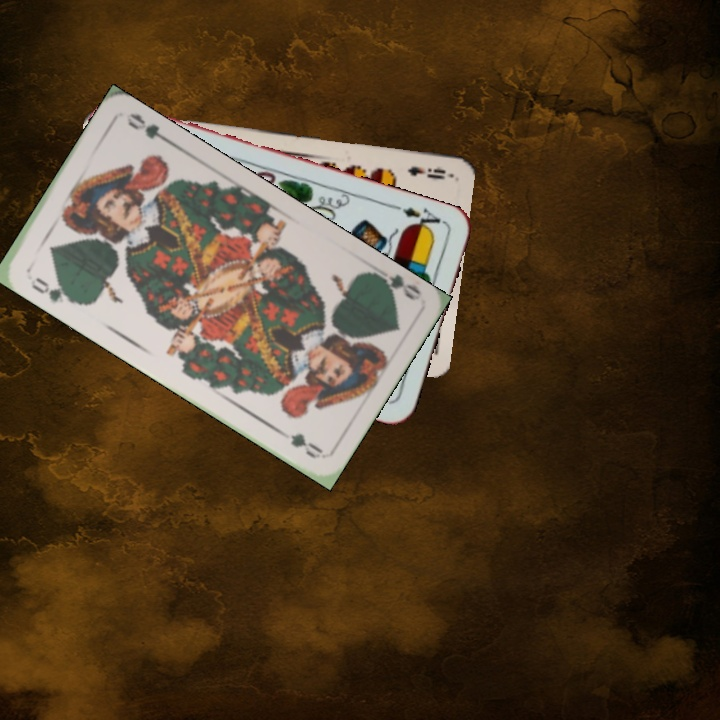E9: (403, 162, 451, 182)
EA: (389, 201, 447, 234)
GO: (366, 268, 423, 303), (26, 273, 75, 306)
